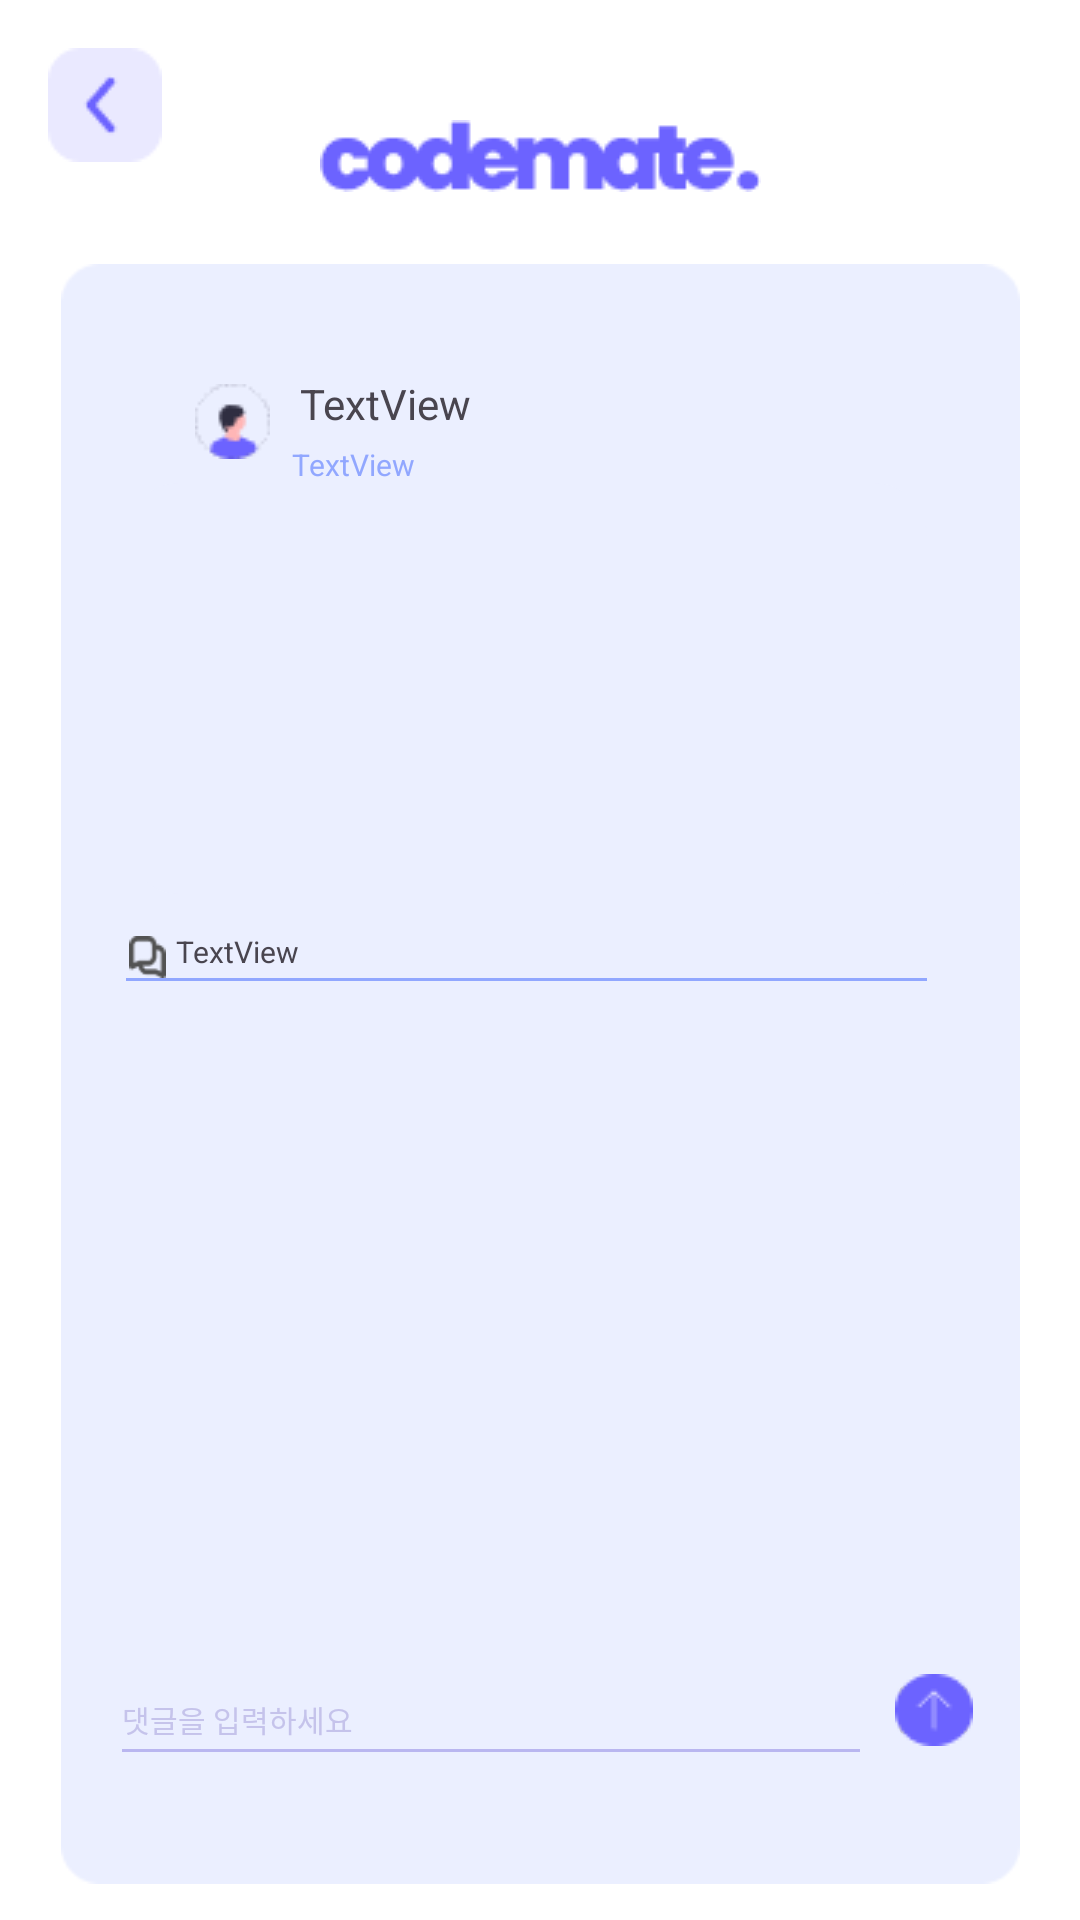

Where to tap for icons on this 1080*1920 app screen, as [x,y]:
back: [105,105]
commentbtn: [934,1710]
userdefault: [232,421]
